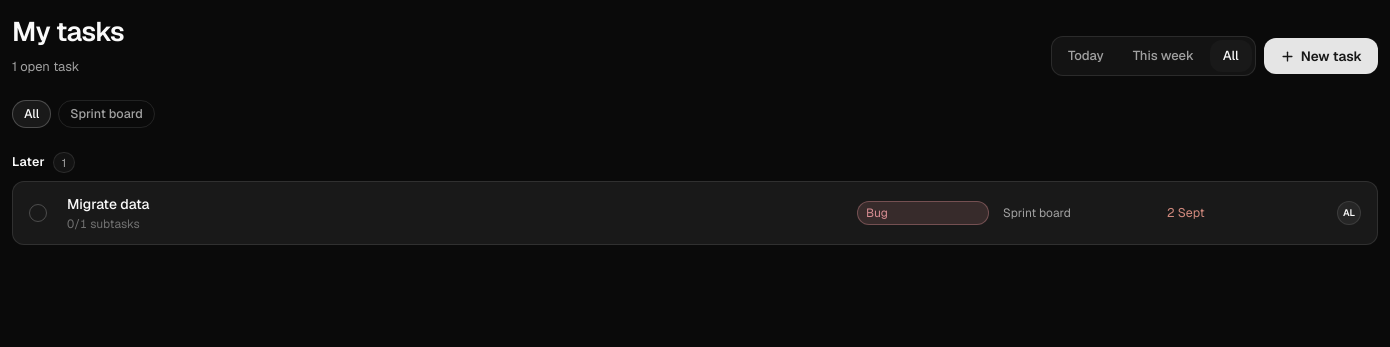
Scenario: MyTasksView › shows nothing pending when the period cuts away remaining work
This screenshot has width=1390, height=347.
Click the button "Today" at (1086, 56), box [1055,40,1117,72]
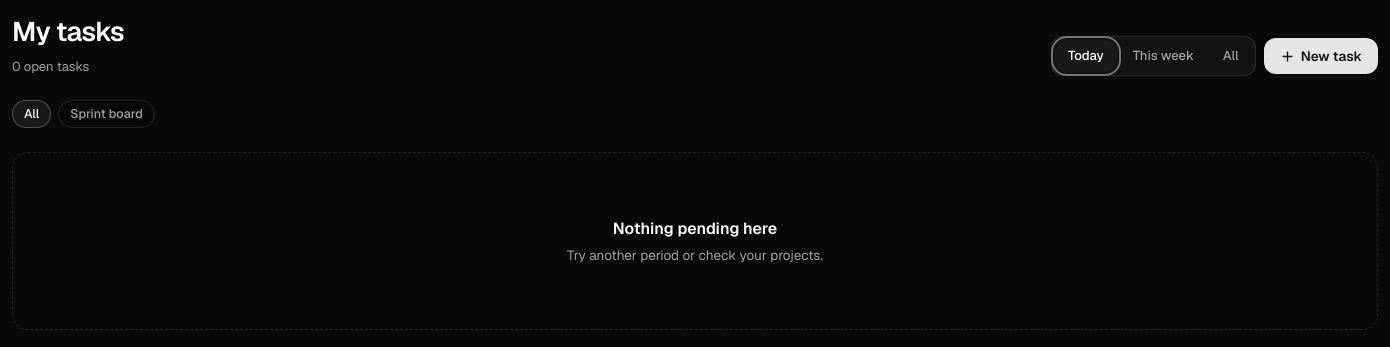
Result: the text "Nothing pending here" is shown at [613,217,777,241]
